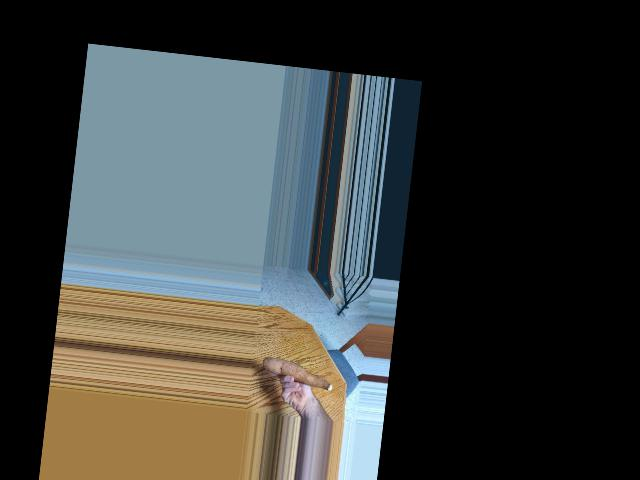sweet_potato: (261, 353, 336, 394)
